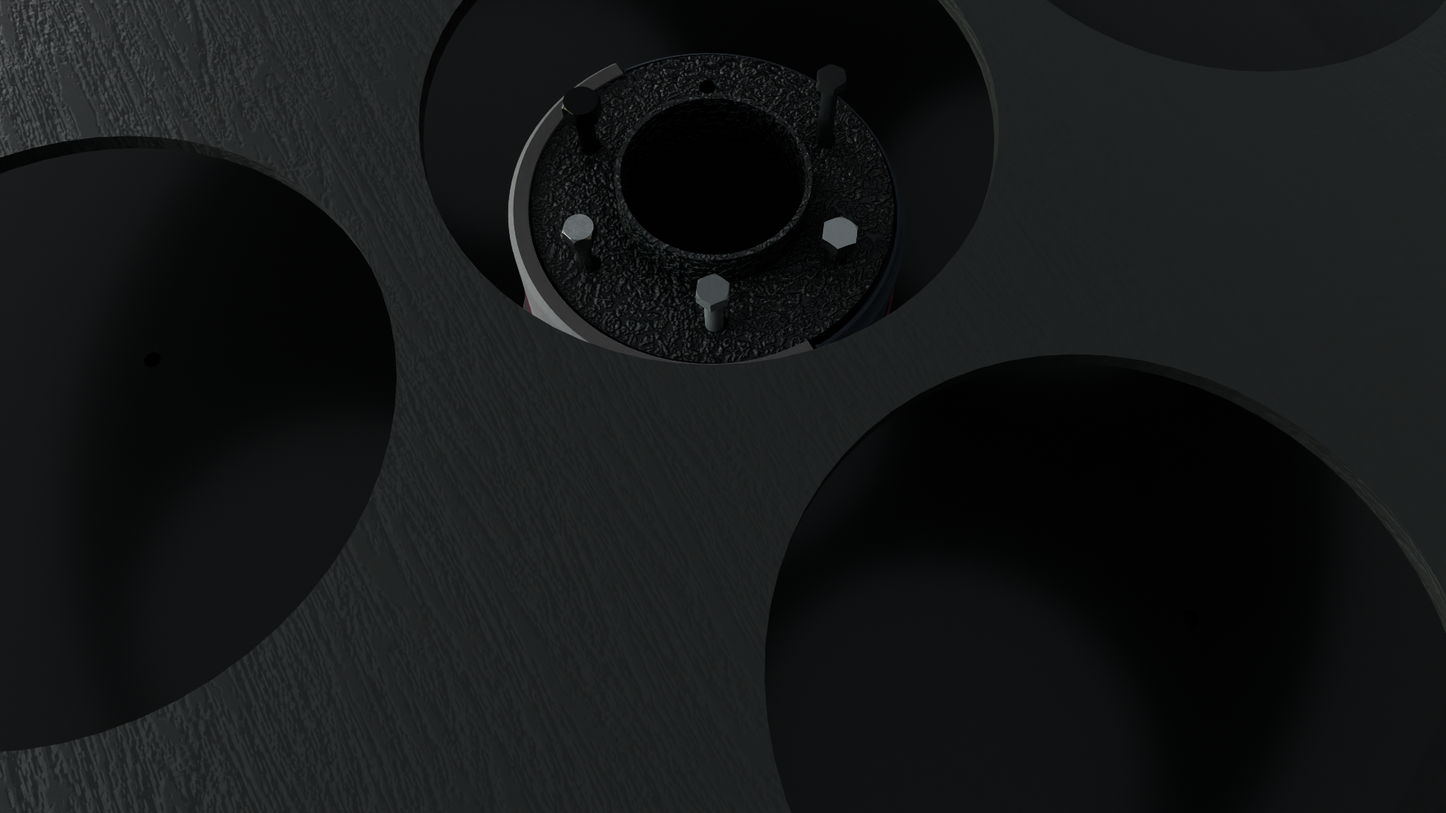bolt: (562, 87, 600, 120), (822, 216, 858, 249), (696, 273, 730, 306), (562, 214, 596, 243), (818, 64, 847, 90)
